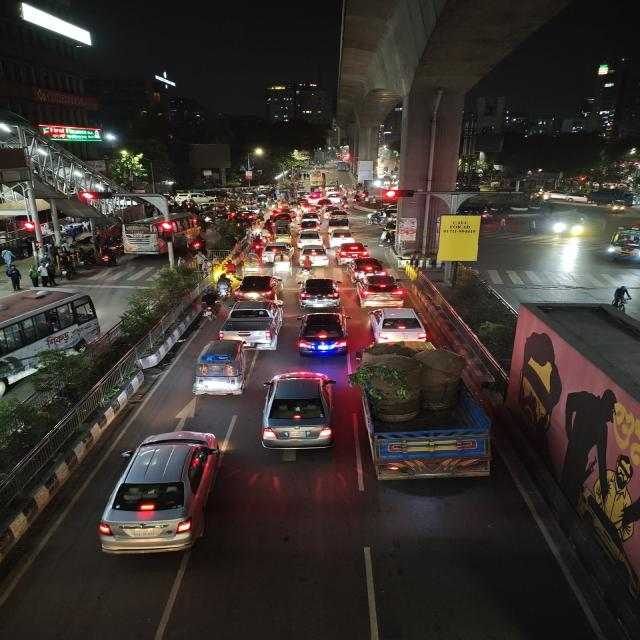bus: (0, 287, 103, 396), (121, 212, 192, 256), (602, 224, 640, 266)
car: (95, 428, 228, 560), (257, 368, 339, 454), (219, 300, 286, 348), (294, 310, 350, 358), (365, 306, 431, 346), (352, 272, 407, 306), (296, 276, 342, 309), (234, 273, 284, 301), (544, 210, 589, 240), (350, 256, 386, 276), (299, 245, 330, 268), (336, 241, 371, 259), (265, 242, 291, 264), (328, 228, 356, 246), (296, 231, 327, 247), (297, 217, 322, 233)
cng: (188, 338, 253, 400), (606, 200, 628, 215)
motorcycle: (199, 287, 221, 319), (215, 274, 234, 300), (99, 244, 120, 266), (295, 264, 314, 284)
pedestrian: (607, 284, 635, 314), (5, 264, 24, 292), (38, 260, 56, 286), (30, 263, 44, 287), (377, 227, 393, 247), (524, 217, 540, 233), (500, 216, 510, 233)
pickup_van: (355, 342, 500, 485), (587, 189, 636, 205), (326, 211, 351, 231)
rickshaw: (269, 252, 293, 276), (242, 254, 264, 276), (273, 228, 293, 242)
